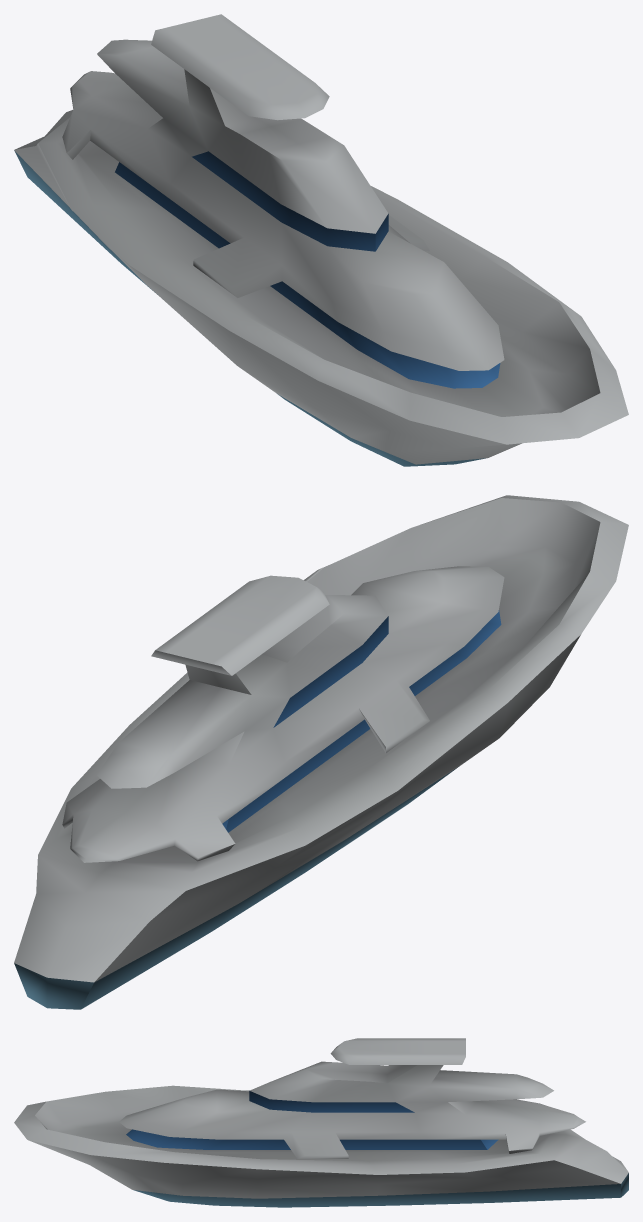
3 views of the same model, one above another, from view 1: azimuth 30°, elevation 25°; view 2: azimuth 150°, elevation 25°; view 3: azimuth 270°, elevation 25° (orthographic). The views are drawn at different scales.
Visible parts, largest first — view 1: base.001; view 2: base.001; view 3: base.001.
Boxes of the visible parts, x1,y1,x2,y2 form: base.001: [14, 14, 628, 466]; base.001: [14, 495, 628, 1009]; base.001: [14, 1038, 628, 1207].
Bounding box in the file's own units: 0.1512 × 0.1278 × 0.4993.
